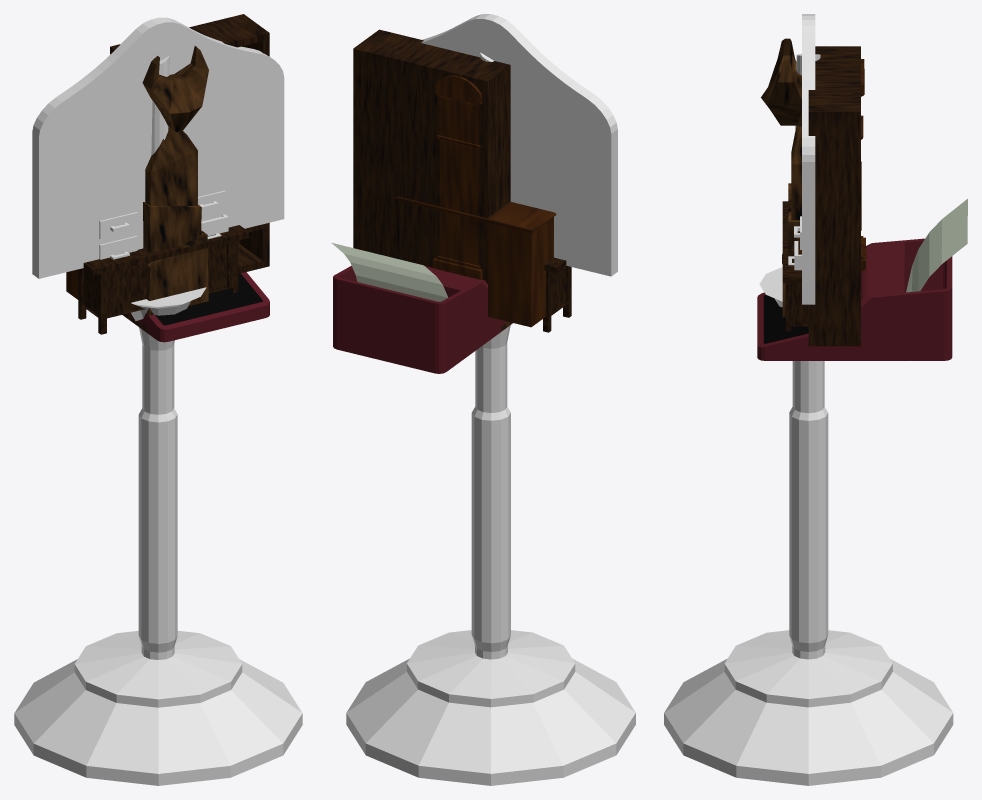
File: Victorian Furniture.fbx
3 views of the same model, side by side, from view 1: azimuth 30°, elevation 25°; view 2: azimuth 150°, elevation 25°; view 3: azimuth 270°, elevation 25° (orthographic).
Parts seen in each view (by area): view 1: Candle, Mirror, Horned Statuatte, Chest, Typewriter, Bookshelf, Drawer 5, Drawer 6, Drawer 3; view 2: Candle, Bookshelf, Mirror, Typewriter, Gradfather Clock, Dresser Drawer, Chest; view 3: Candle, Typewriter, Bookshelf, Horned Statuatte, Mirror, Chest.
Boxes of the visible parts, box(x1,y1,x2,y2) form: Candle: box(14, 56, 302, 785); Mirror: box(32, 17, 284, 278); Horned Statuatte: box(123, 46, 208, 333); Chest: box(78, 225, 248, 334); Typewriter: box(122, 272, 269, 342); Bookshelf: box(110, 14, 269, 273); Drawer 5: box(99, 212, 137, 239); Drawer 6: box(99, 235, 137, 259); Drawer 3: box(198, 190, 225, 214); Candle: box(346, 52, 635, 785); Bookshelf: box(353, 29, 510, 283); Mirror: box(421, 14, 617, 276); Typewriter: box(331, 242, 512, 373); Gradfather Clock: box(432, 75, 482, 279); Dresser Drawer: box(395, 196, 556, 327); Chest: box(543, 257, 571, 332); Candle: box(664, 54, 953, 785); Typewriter: box(757, 198, 967, 360); Bookshelf: box(808, 46, 860, 346); Horned Statuatte: box(761, 38, 801, 317); Mirror: box(802, 14, 815, 304); Chest: box(782, 201, 808, 331).
Bounding box in the file's own units: 1109 × 2991 × 1165.
